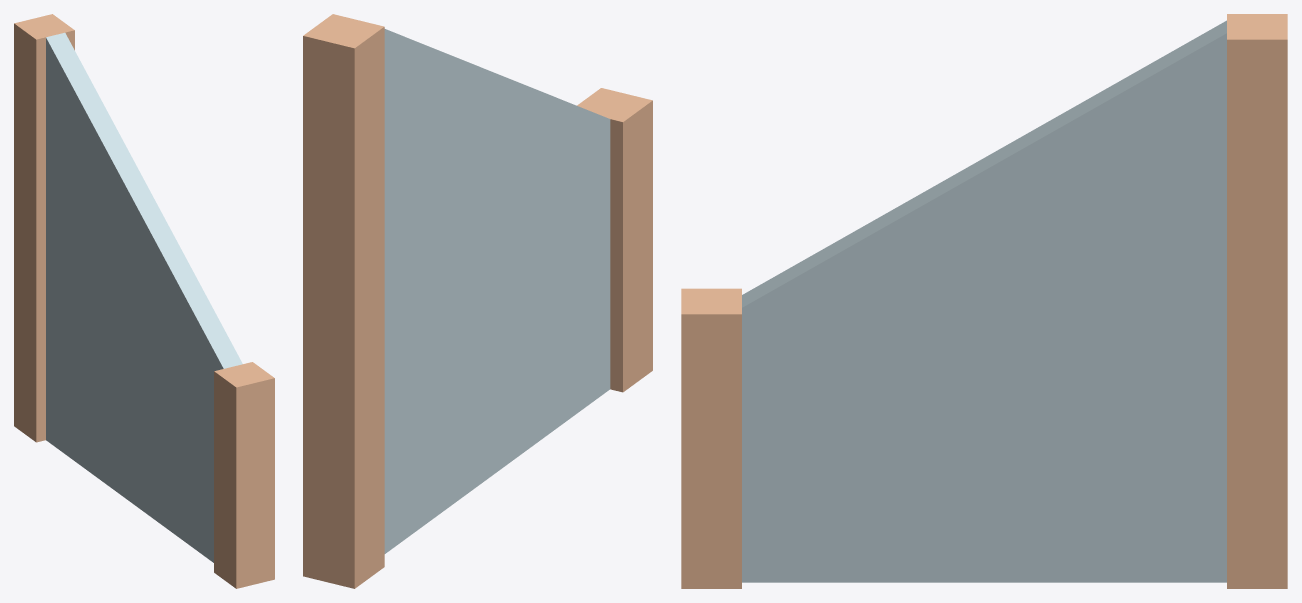
Rendered from wallSlope.glb.
3 views of the same model, side by side, from view 1: azimuth 30°, elevation 25°; view 2: azimuth 150°, elevation 25°; view 3: azimuth 270°, elevation 25° (orthographic). The views are drawn at different scales.
Visible parts, largest first — view 1: wallSlope; view 2: wallSlope; view 3: wallSlope.
Boxes of the visible parts, x1,y1,x2,y2 form: wallSlope: (14, 14, 274, 588); wallSlope: (303, 14, 652, 588); wallSlope: (681, 14, 1287, 588).
Bounding box in the file's own units: 0.1 × 1 × 1.
